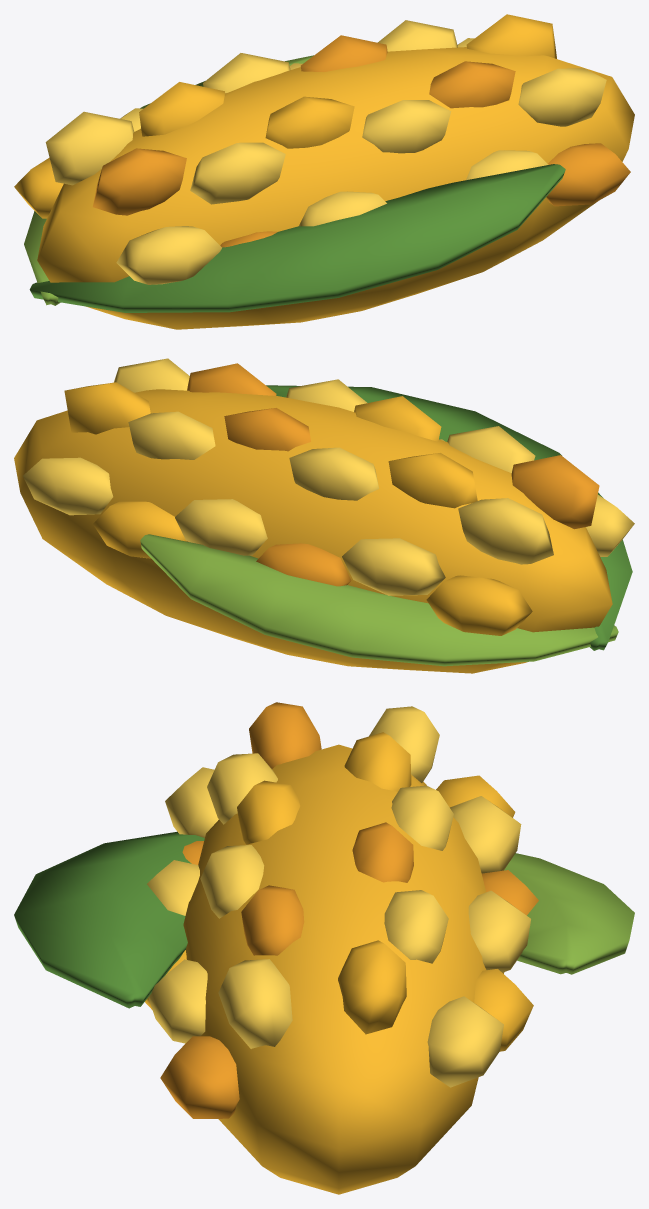
The model's file is Corn_Loose.fbx.
3 renders of one model, top to bottom at view 1: azimuth 30°, elevation 25°; view 2: azimuth 150°, elevation 25°; view 3: azimuth 270°, elevation 25°, orthographic. The views are drawn at different scales.
Parts seen in each view (by area): view 1: Body; view 2: Body; view 3: Body.
Boxes of the visible parts, x1,y1,x2,y2 form: Body: [14, 14, 634, 329]; Body: [14, 358, 634, 673]; Body: [14, 702, 634, 1194].
Size of the model in its own units: 0.4713 by 0.1826 by 0.344.
